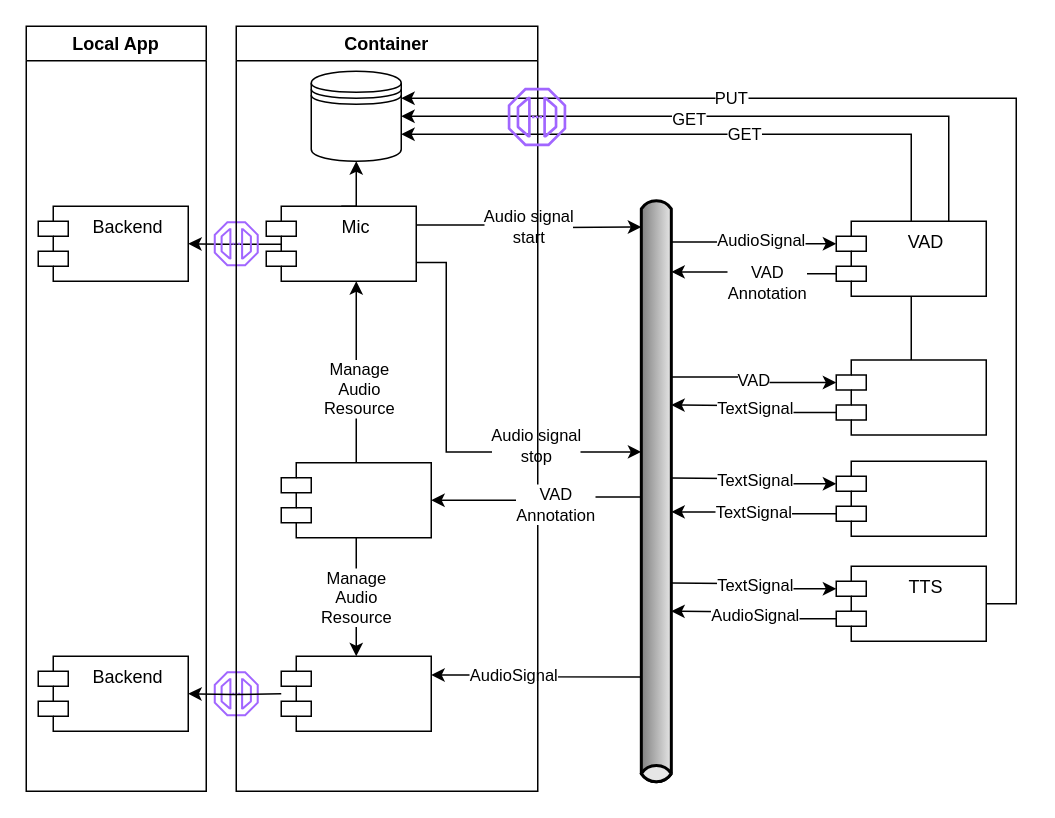
Some shapes in this 1055 by 818 pixel diagram are drawn without their labels. The centre of each missing label's shape, as x and y in pixels:
Audio Controller: (x=355, y=499)
Eliza: (x=910, y=498)
Speaker: (x=355, y=693)
STT: (x=910, y=396)
